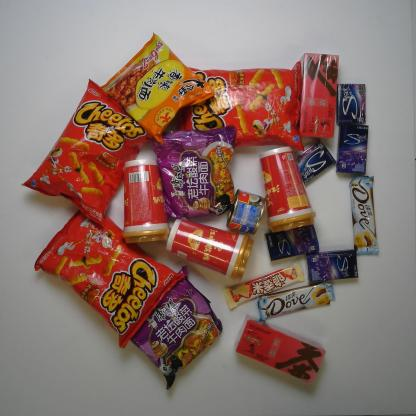Canned Food: (226, 188, 266, 236)
Chocolate: (223, 262, 306, 310), (255, 280, 337, 323), (348, 174, 382, 256)
Gum: (291, 138, 337, 187), (263, 224, 320, 262), (304, 248, 359, 284), (335, 122, 369, 176), (334, 82, 372, 126)
Instant Drink: (232, 314, 328, 386), (163, 216, 256, 283), (259, 145, 317, 234), (121, 158, 172, 244), (298, 52, 340, 140)
Instant Noodles: (98, 30, 217, 148), (129, 265, 225, 392), (150, 124, 237, 218)
Puffed Food: (33, 206, 186, 350), (20, 77, 155, 228), (177, 60, 306, 154)
